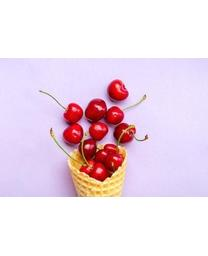cherry: (85, 98, 108, 122), (61, 123, 84, 145), (107, 80, 129, 101), (114, 123, 137, 143), (62, 103, 84, 122), (106, 104, 123, 126), (90, 122, 109, 141), (80, 140, 96, 159), (105, 155, 123, 171), (90, 164, 104, 179), (97, 150, 108, 164)
